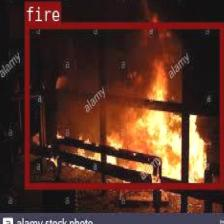fire: (25, 22, 224, 188)
